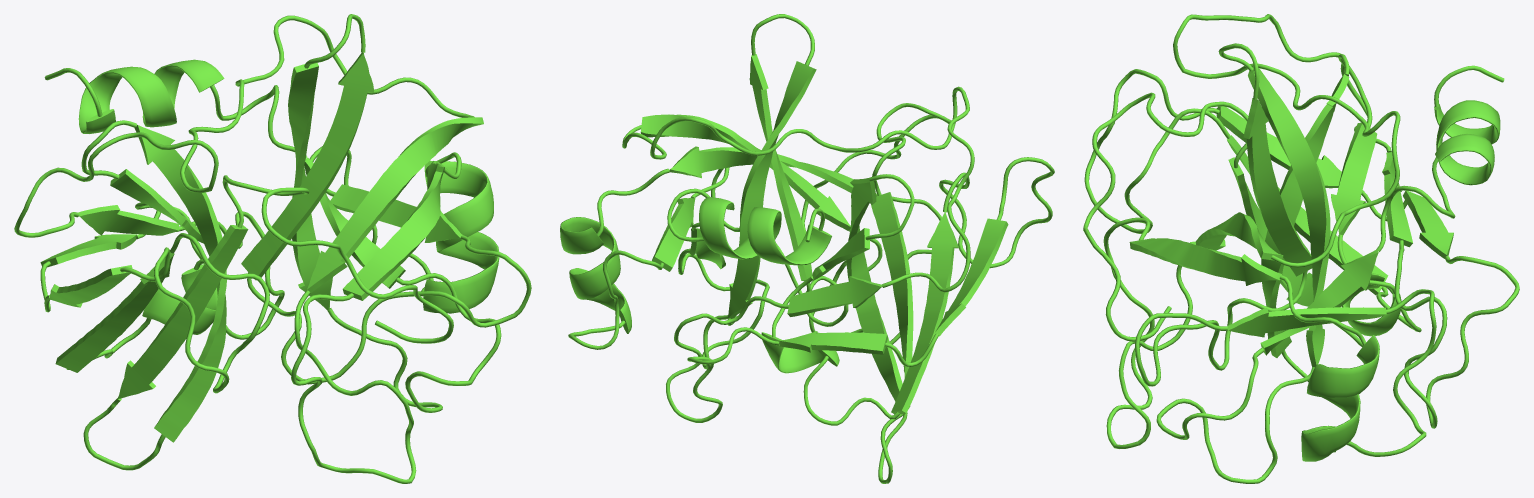
File: dog.glb
3 views of the same model, side by side, from view 1: azimuth 30°, elevation 25°; view 2: azimuth 150°, elevation 25°; view 3: azimuth 270°, elevation 25° (orthographic). The views are drawn at different scales.
Visible parts, largest first — view 1: serph122; view 2: serph122; view 3: serph122.
Boxes of the visible parts, x1,y1,x2,y2 form: serph122: (14, 14, 531, 483); serph122: (560, 14, 1054, 483); serph122: (1083, 14, 1519, 483).
Bounding box in the file's own units: 43.62 × 40.32 × 36.45.
